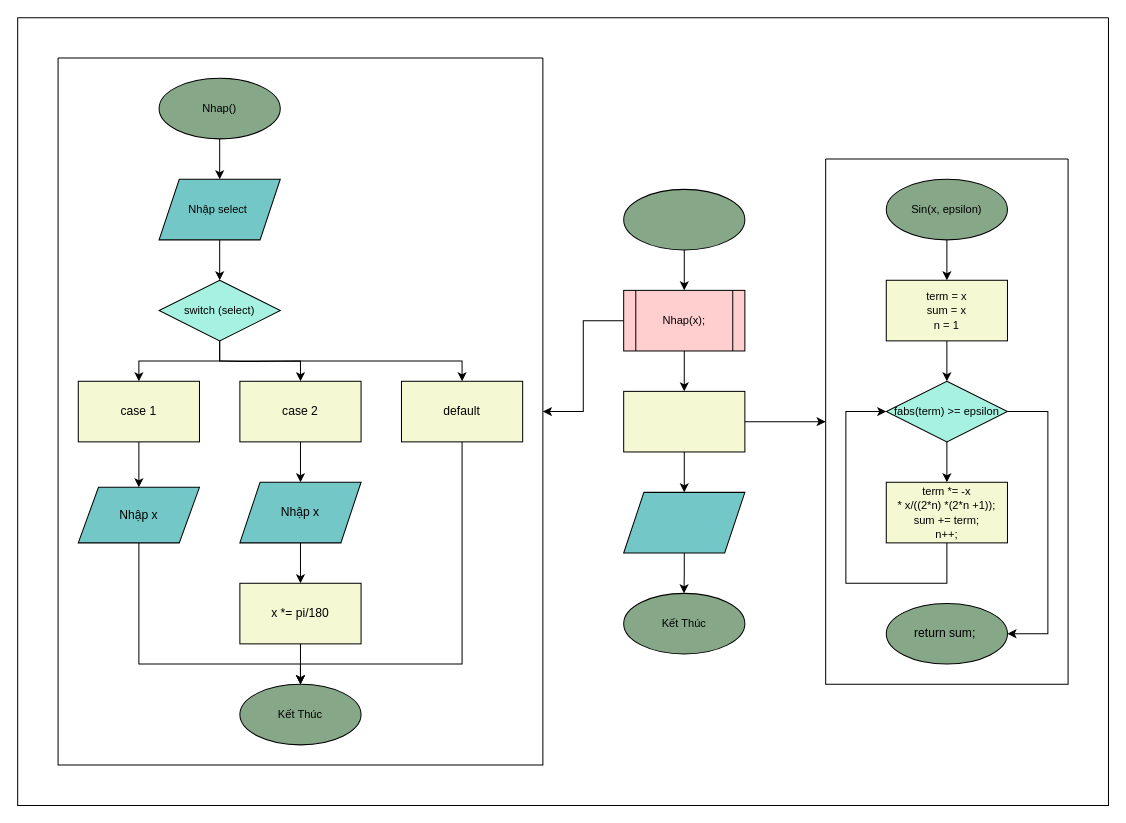
This 1126x823 diagram has some shape labels left out. Here are the shapes that lost their labels. From the top down, the centre of each, then its label:
At point (684, 219): "Bắt đầu".
At point (684, 421): "epsilon = 0.00001 ; result = Sin(x, epsilon)".
At point (684, 522): "Xuất kết quả Sin(x) = ...".
